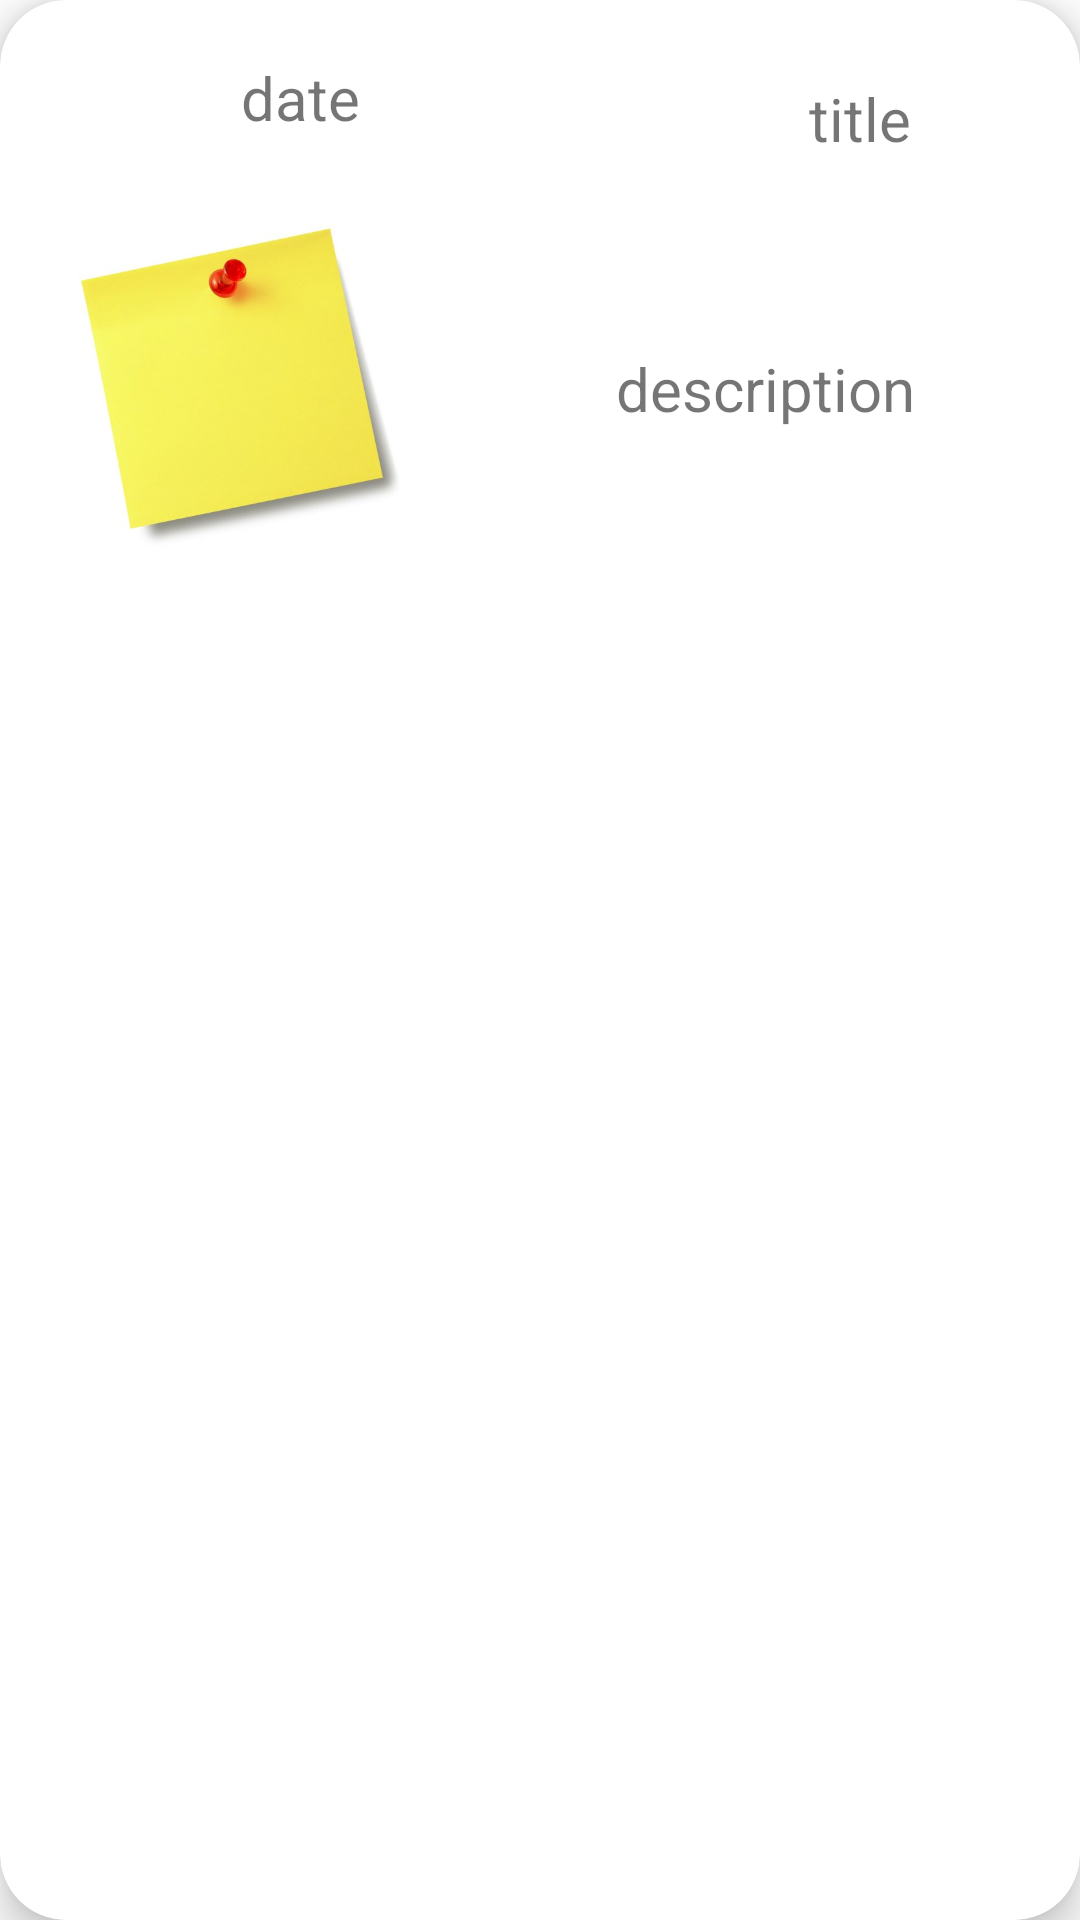

Screen size 1080x1920. Icon name, then its center in pixels as [x,y]:
notepicture: [238,383]
